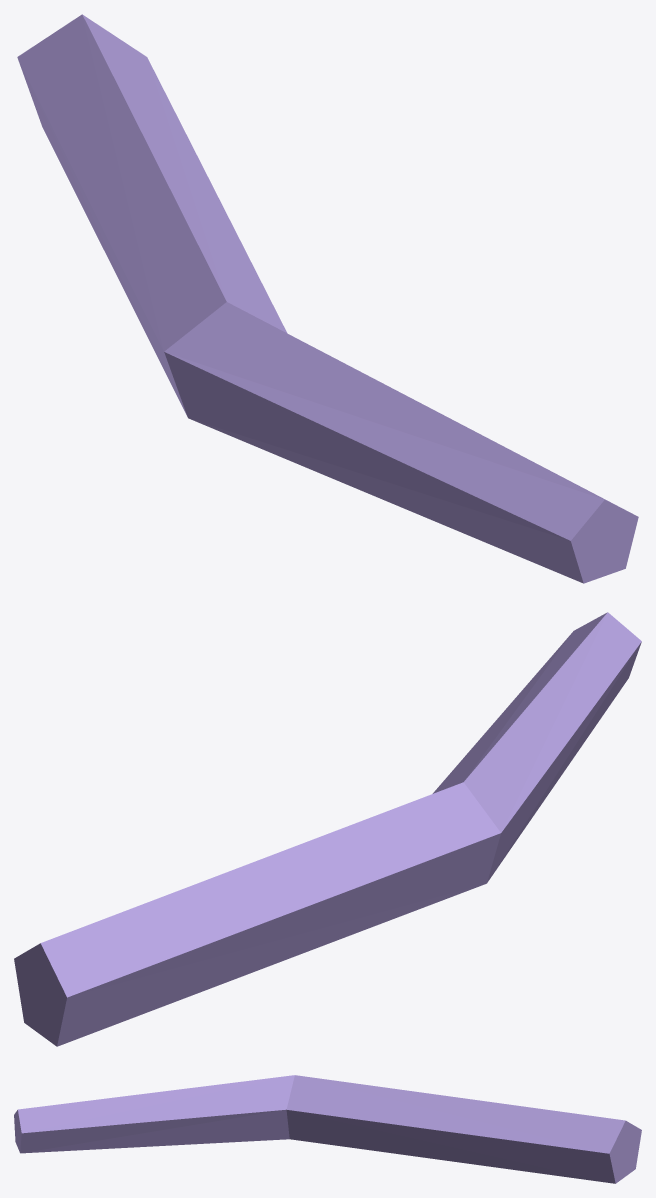
Rendered from SM_FOL_Stick_01_B.obj.
3 renders of one model, top to bottom at view 1: azimuth 30°, elevation 25°; view 2: azimuth 150°, elevation 25°; view 3: azimuth 270°, elevation 25°, orthographic. The views are drawn at different scales.
Visible parts, largest first — view 1: SM_FOL_Stick_01_B; view 2: SM_FOL_Stick_01_B; view 3: SM_FOL_Stick_01_B.
Boxes of the visible parts, x1,y1,x2,y2 form: SM_FOL_Stick_01_B: [17, 14, 638, 583]; SM_FOL_Stick_01_B: [14, 612, 641, 1046]; SM_FOL_Stick_01_B: [14, 1075, 641, 1183].
Size of the model in its own units: 14.67 by 5.43 by 55.15.
